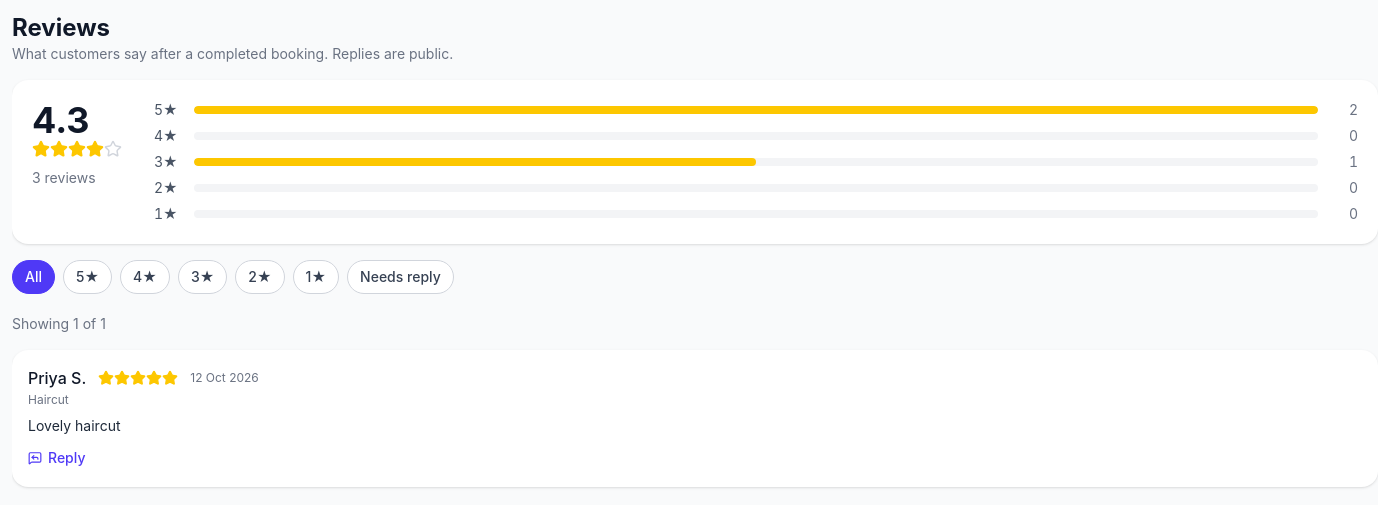
Test: ReviewsPage › filters by rating and by reviews that need a reply
Expected: the element named "Review by Priya S." is shown, [12,350,1377,487]
Click the button named "3 stars".
click(203, 277)  # box [178,260,227,294]
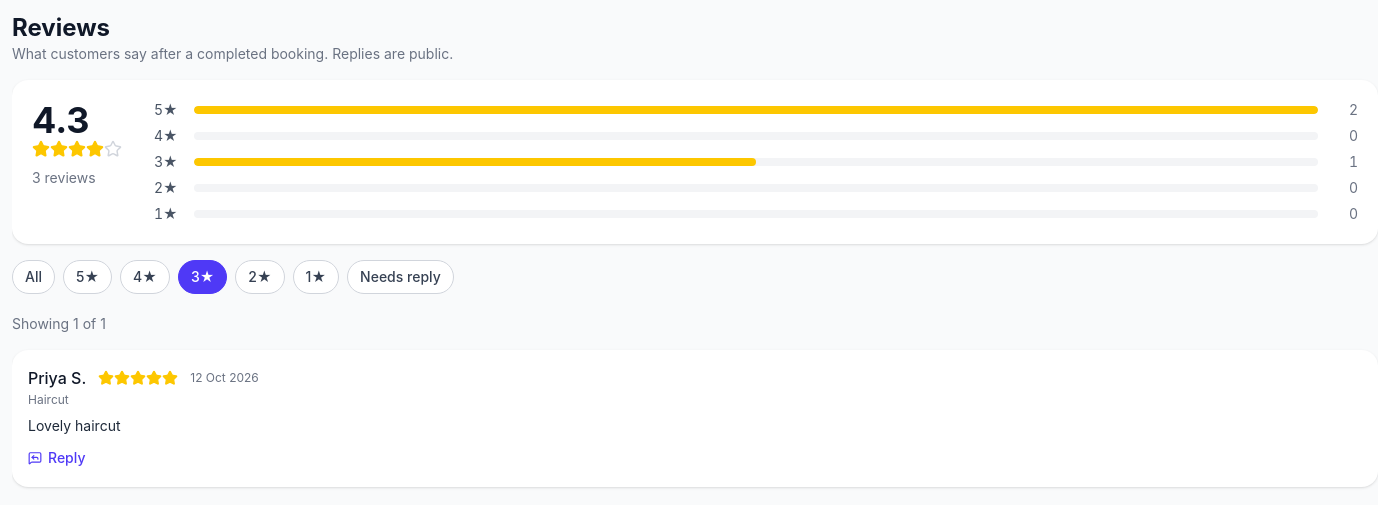
Now the button named "3 stars" is pressed, box [178,260,227,294]
Click the button "Needs reply".
click(400, 277)  # box [347,260,454,294]
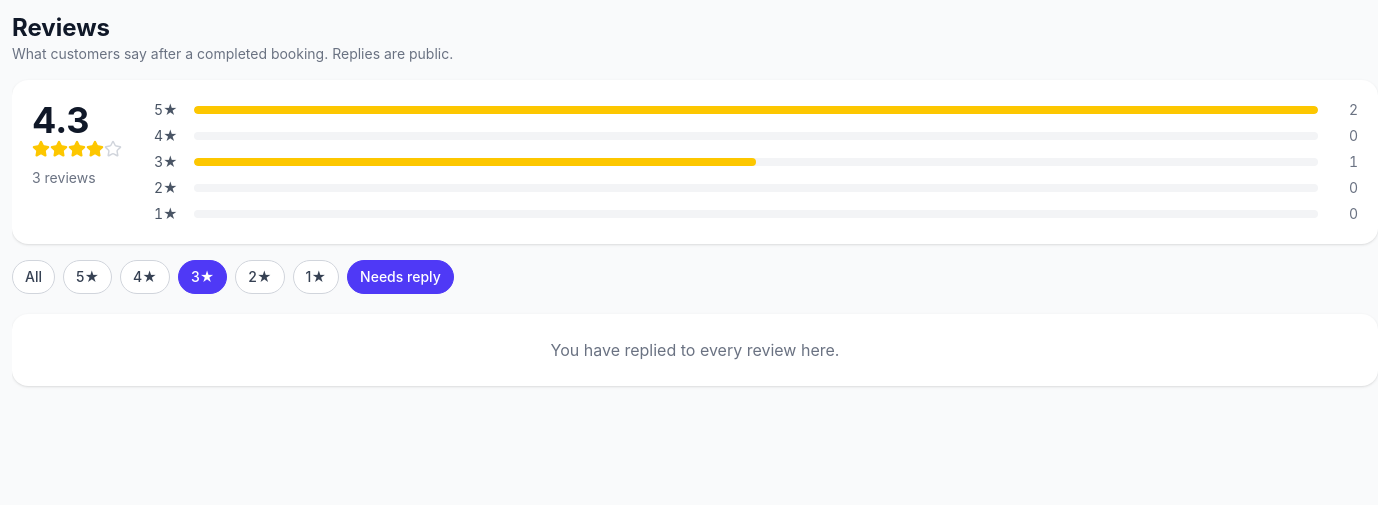
Now the text "You have replied to every review here." is shown, box [12,314,1377,386]
